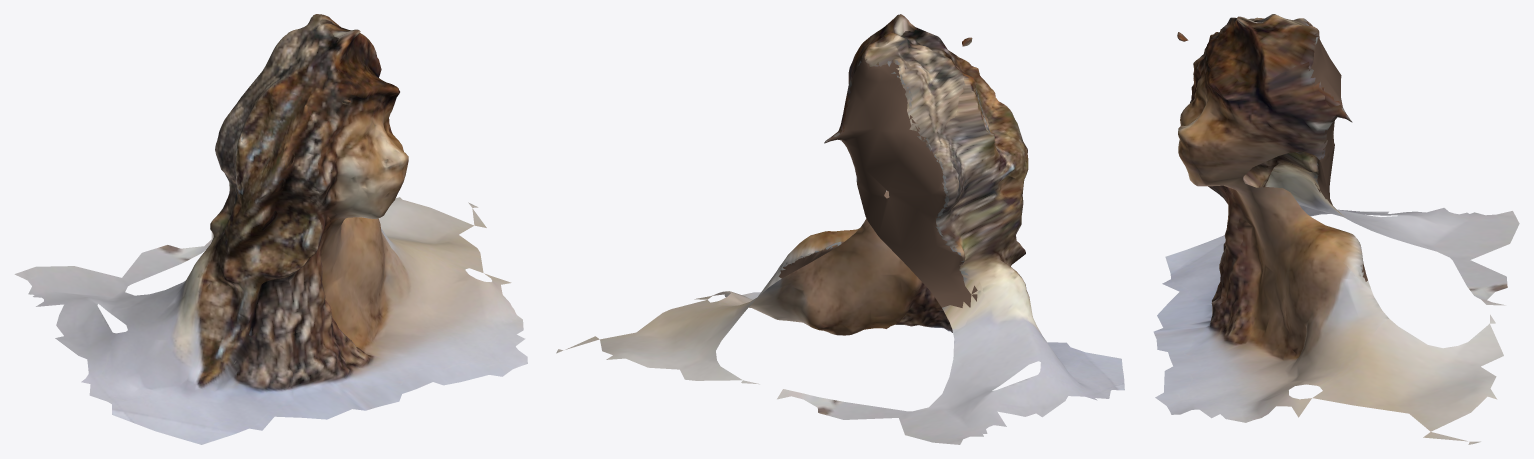
File: sadLady.glb
3 views of the same model, side by side, from view 1: azimuth 30°, elevation 25°; view 2: azimuth 150°, elevation 25°; view 3: azimuth 270°, elevation 25° (orthographic). The views are drawn at different scales.
Parts seen in each view (by area): view 1: sadLady; view 2: sadLady; view 3: sadLady.
Part boxes in pixels (bbox=[...]): sadLady: bbox=[14, 14, 527, 444]; sadLady: bbox=[556, 14, 1124, 444]; sadLady: bbox=[1153, 14, 1519, 444].
Size of the model in its own units: 23 by 15.54 by 15.51.
Materials: 2 (2 with a texture image).
